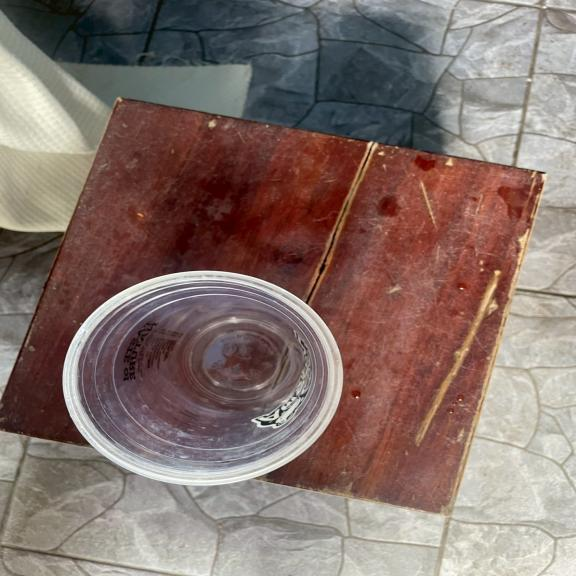Plastik: (63, 271, 342, 485)
